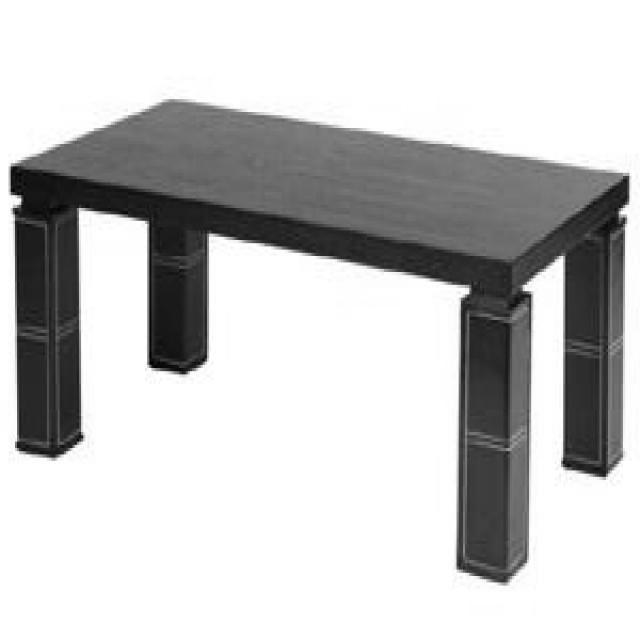table: (8, 95, 630, 567)
